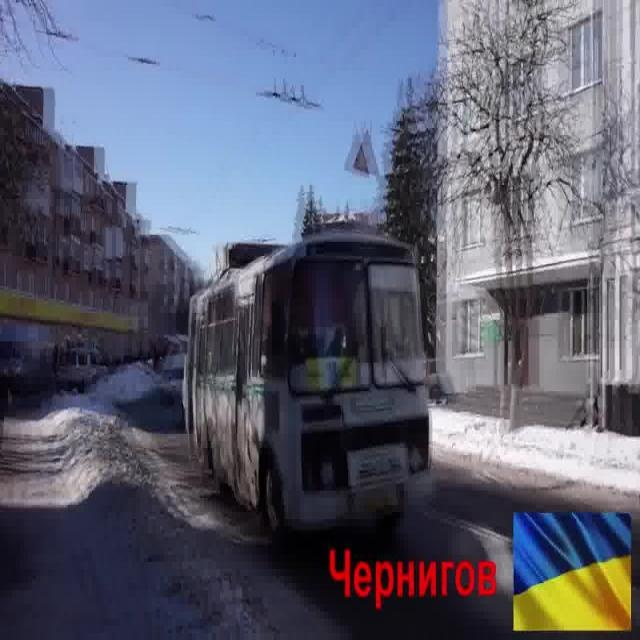Bus: (182, 232, 437, 546)
